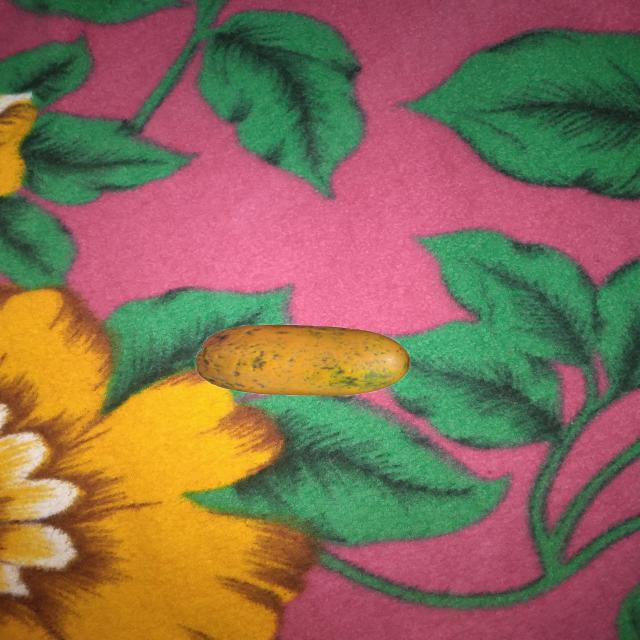Pepaya rippen: (188, 320, 417, 406)
